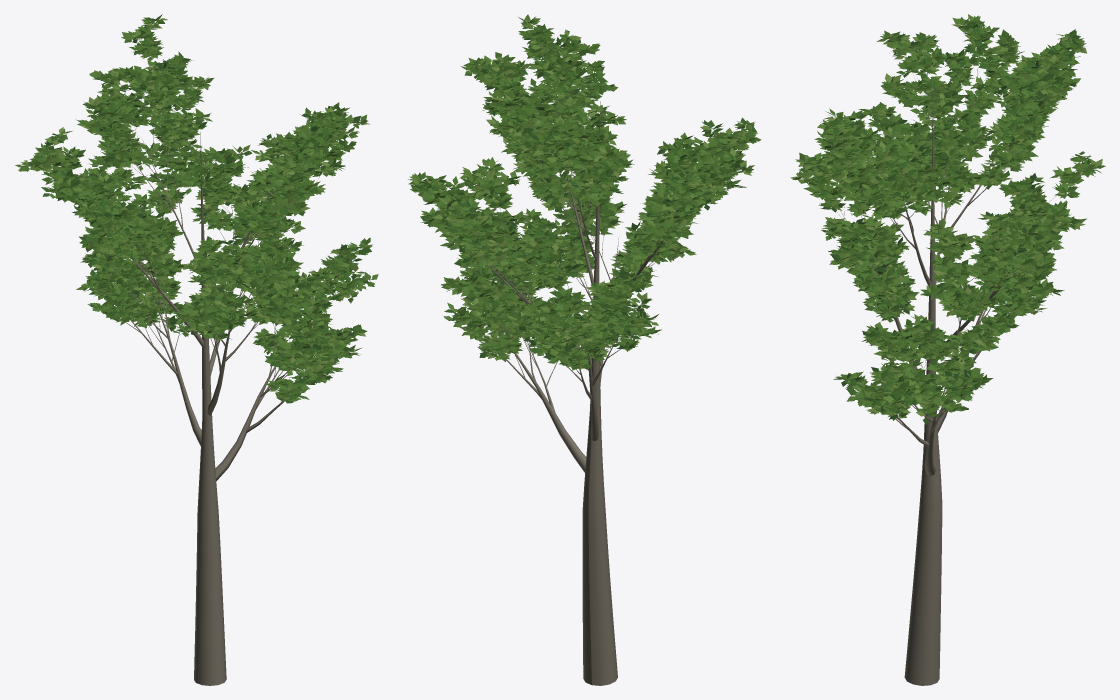
The model's file is tree_04.glb.
3 views of the same model, side by side, from view 1: azimuth 30°, elevation 25°; view 2: azimuth 150°, elevation 25°; view 3: azimuth 270°, elevation 25° (orthographic). The views are drawn at different scales.
Visible parts, largest first — view 1: Tree_04_leaf_clusters, Tree_04_trunk_branches; view 2: Tree_04_leaf_clusters, Tree_04_trunk_branches; view 3: Tree_04_leaf_clusters, Tree_04_trunk_branches.
Boxes of the visible parts, x1,y1,x2,y2 form: Tree_04_leaf_clusters: (15, 14, 378, 403); Tree_04_trunk_branches: (42, 23, 360, 685); Tree_04_leaf_clusters: (408, 14, 761, 370); Tree_04_trunk_branches: (444, 36, 744, 685); Tree_04_leaf_clusters: (790, 14, 1105, 424); Tree_04_trunk_branches: (803, 30, 1082, 685).
Bounding box in the file's own units: 5.51 × 9.81 × 4.31.
